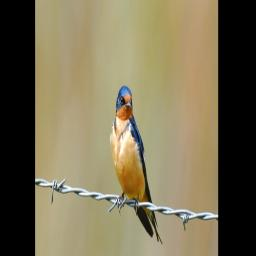Swallow: (109, 84, 163, 245)
